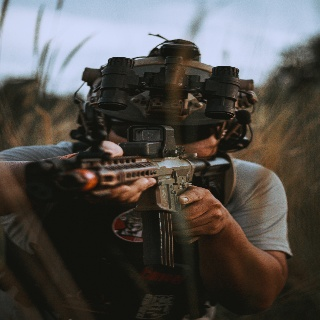rifle: (54, 124, 233, 268)
